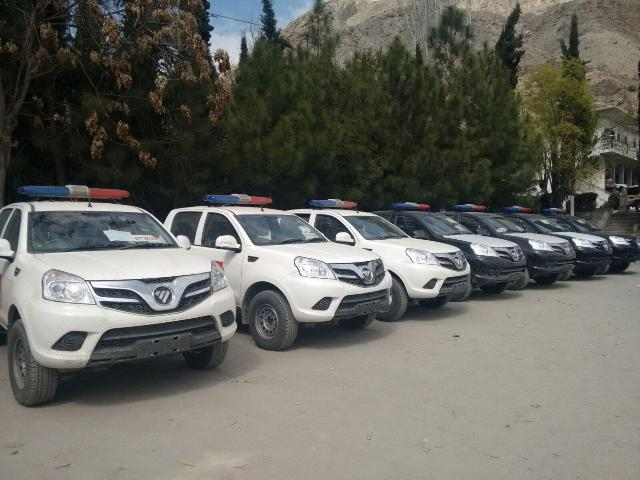police_car: (3, 168, 238, 406), (207, 179, 388, 337), (464, 184, 576, 286)
